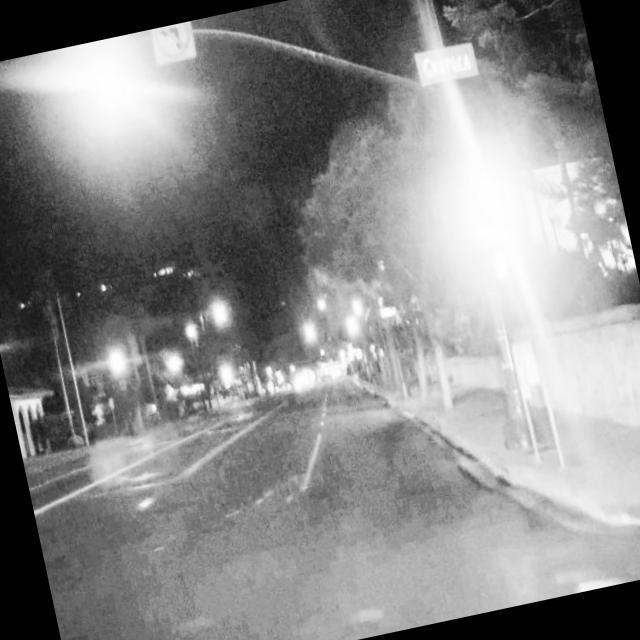Light: (87, 38, 119, 100), (470, 160, 500, 222)
Sign: (414, 40, 480, 86), (150, 20, 198, 65), (510, 341, 544, 402)
